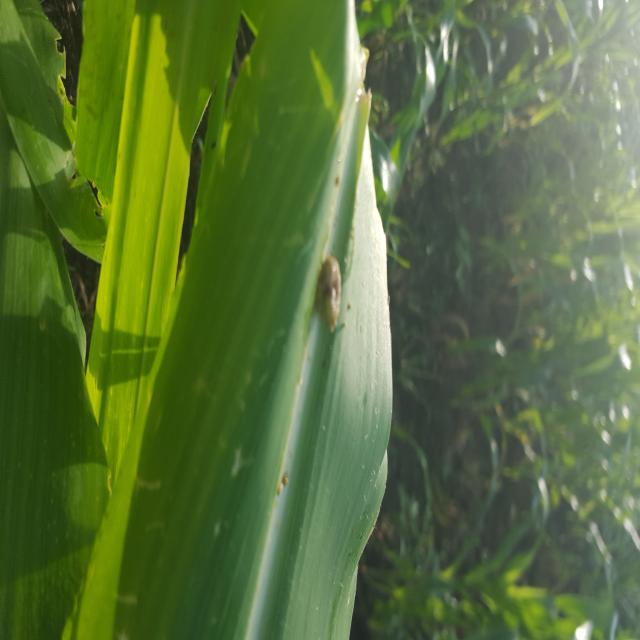fall-armyworm-frass: (270, 459, 298, 513)
fall-armyworm-larva: (310, 236, 348, 349)
fall-armyworm-larval-damage: (48, 29, 71, 113)
